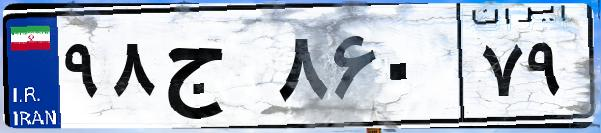0: (385, 28, 445, 110)
6: (330, 28, 385, 110)
7: (475, 38, 525, 113)
8: (270, 28, 330, 110), (110, 28, 158, 98)
9: (57, 26, 110, 100), (525, 38, 570, 115)
ج: (158, 20, 270, 120)
